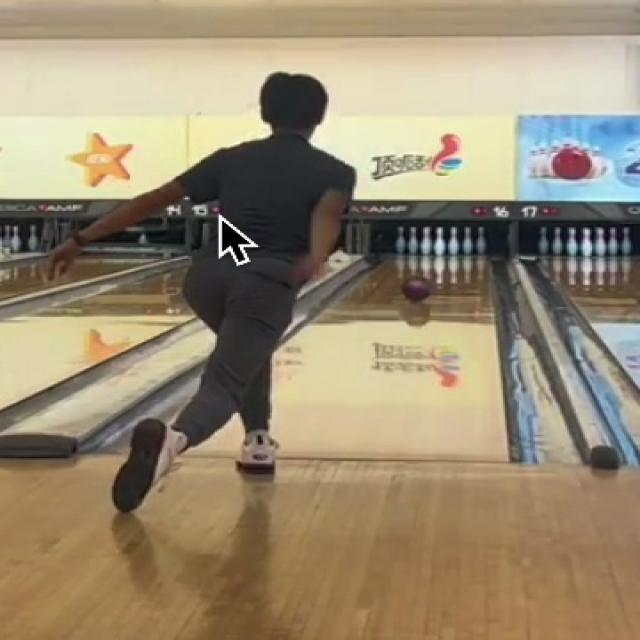alley: (272, 257, 505, 460)
balls: (403, 278, 430, 301)
bottle: (395, 224, 487, 255)
